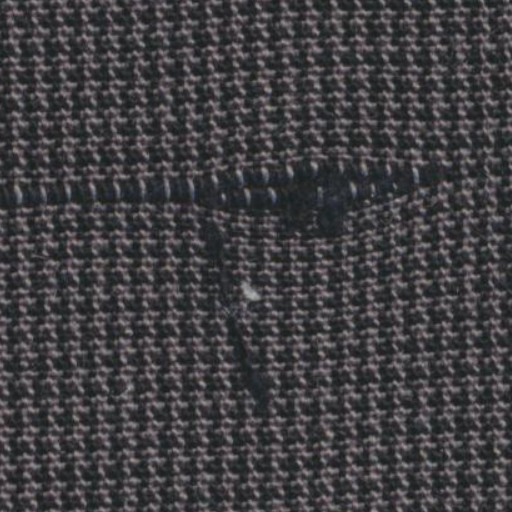DaiSha: (20, 154, 477, 234)
